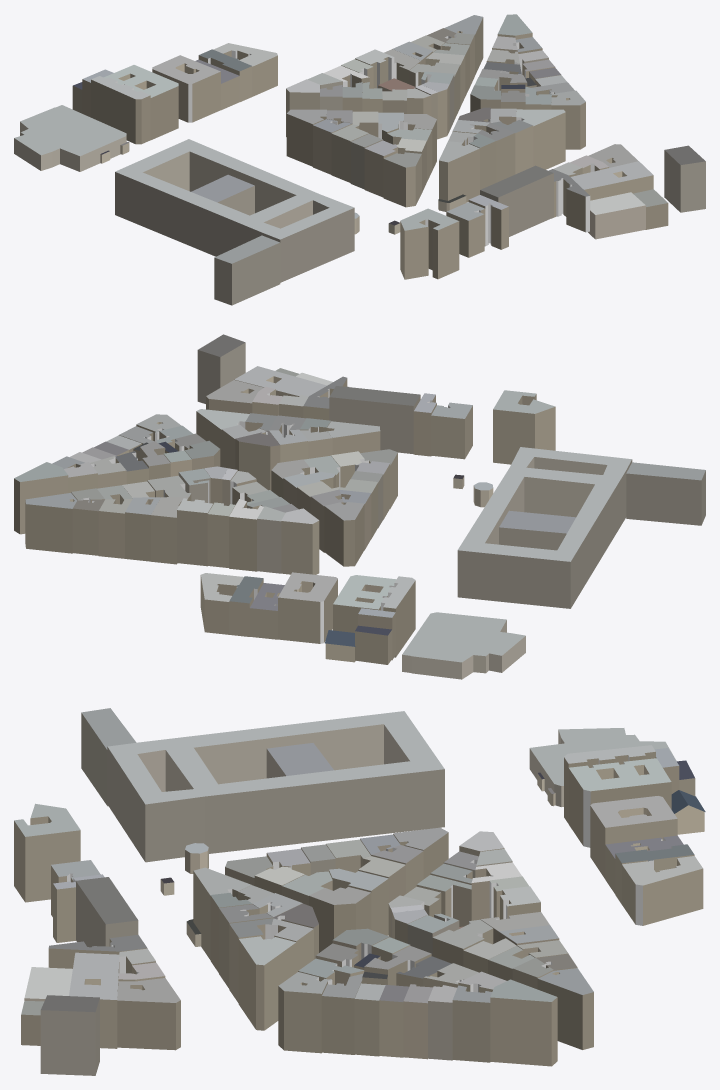
3 renders of one model, top to bottom at view 1: azimuth 30°, elevation 25°; view 2: azimuth 150°, elevation 25°; view 3: azimuth 270°, elevation 25°, orthographic. The views are drawn at different scales.
Parts seen in each view (by area): view 1: tuile; view 2: tuile; view 3: tuile.
Boxes of the visible parts, box(x1,y1,x2,y2) form: tuile: box(14, 14, 705, 305); tuile: box(14, 334, 705, 679); tuile: box(14, 708, 705, 1075).
Bounding box in the file's own units: 268 × 31.47 × 252.
